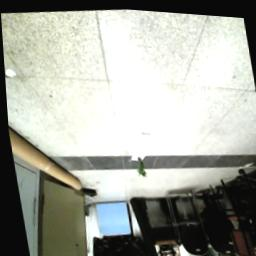herb: (132, 154, 146, 177)
